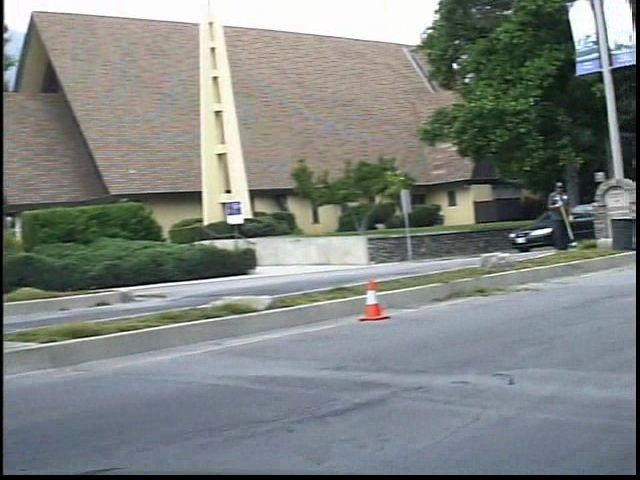person: (557, 175, 590, 256)
